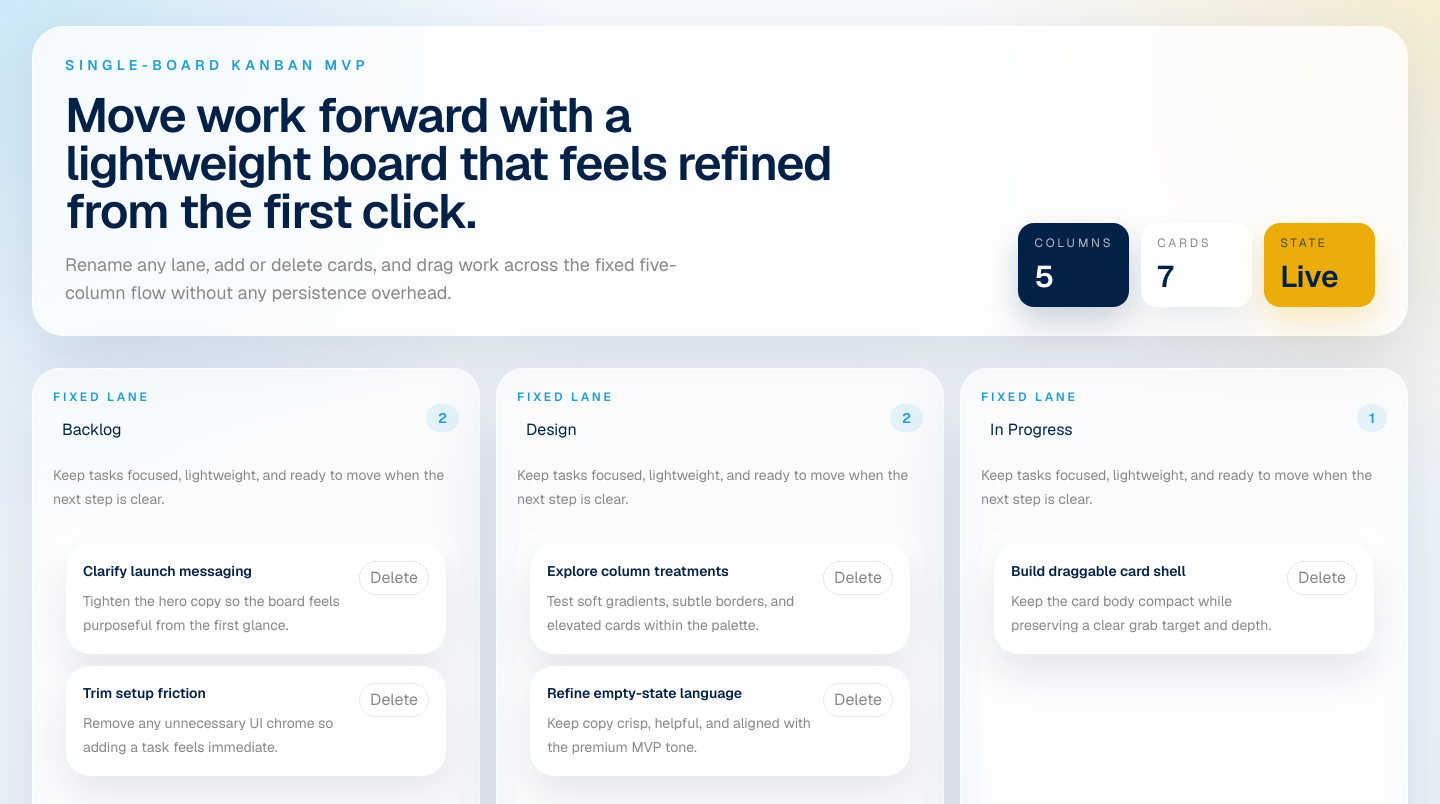
Test case: Board › renames a column, adds a card, and deletes it
Replace the text in the field named "Rename backlog column" with "Ideas" at (171, 430), box 53,413 -> 289,447
Press Tab
(page scrolled)
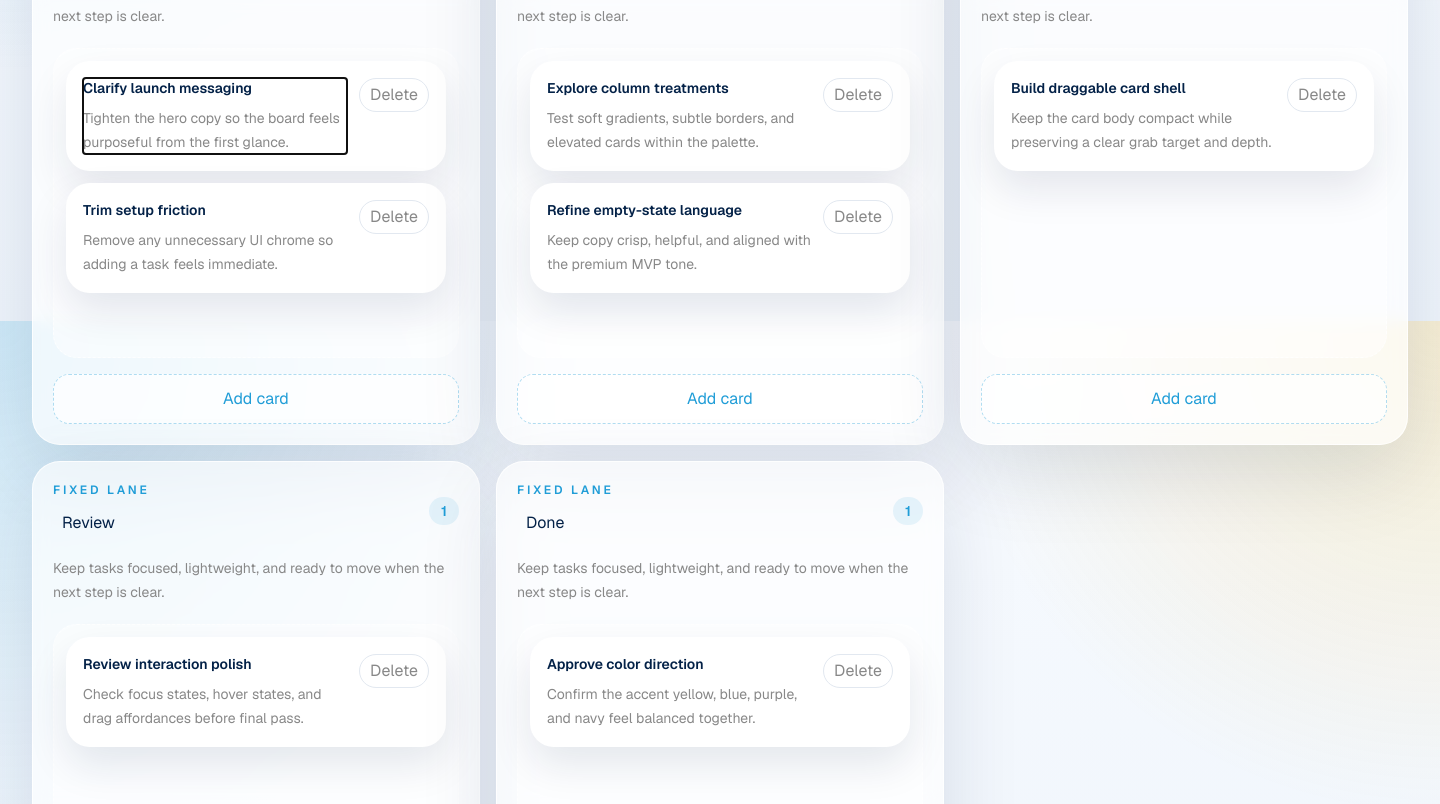
Click the button with aria-label "Add card to Ideas" at (256, 399), box 53,374 -> 459,424
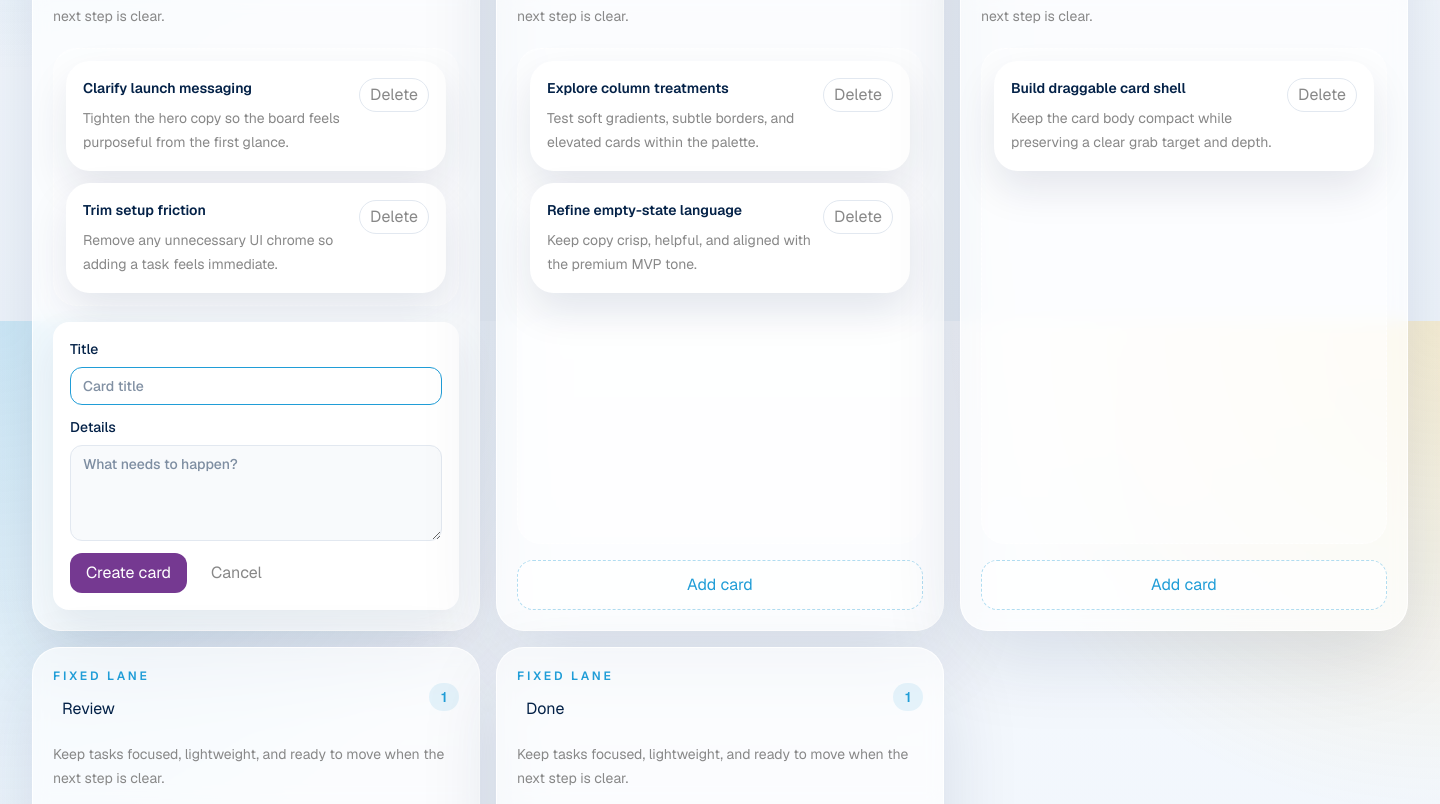
Type "Ship polished hover states" into the field labelled "Title" at (256, 386), box 70,367 -> 442,405
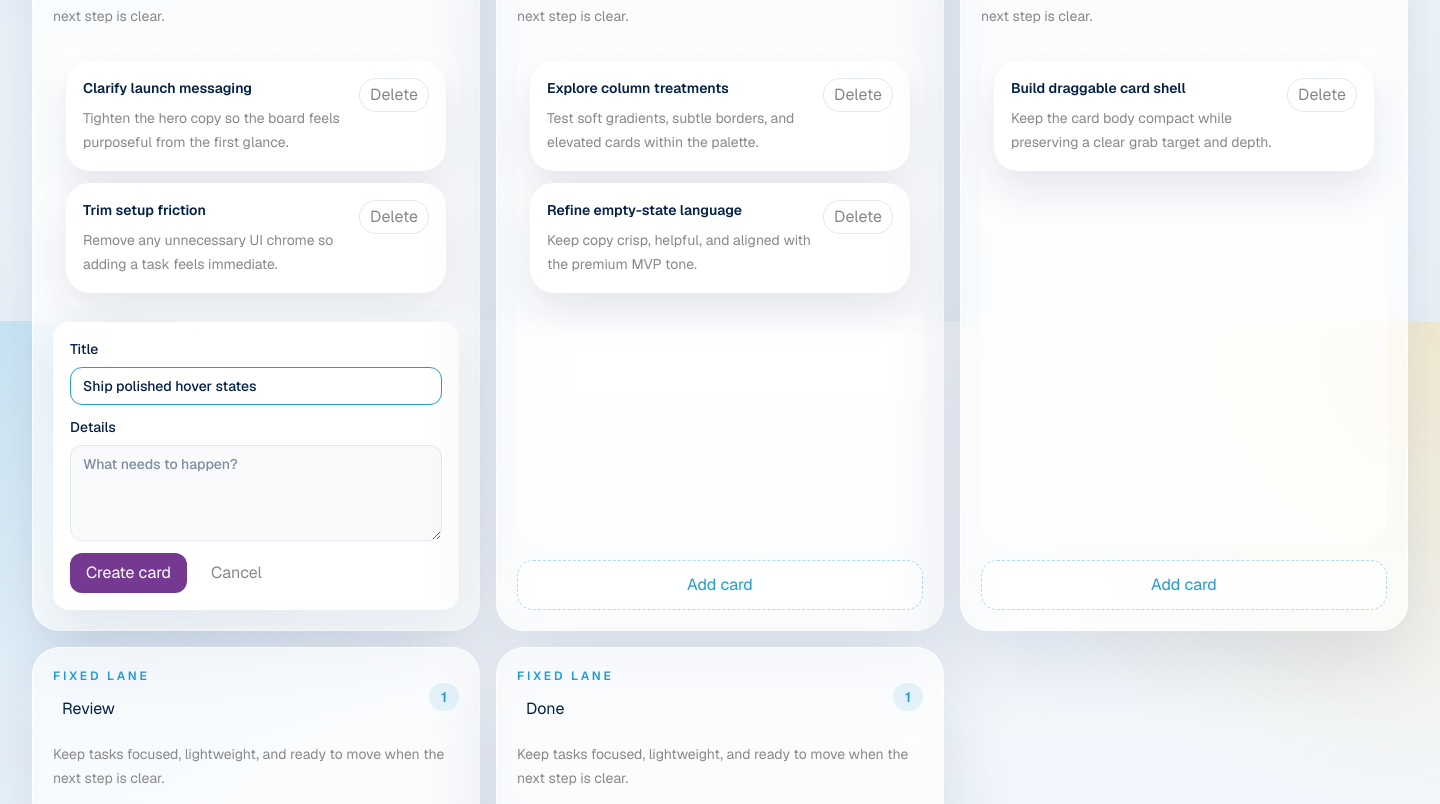
Type "Keep transitions smooth and restrained across the board." into the text box labelled "Details" at (256, 493), box 70,445 -> 442,541
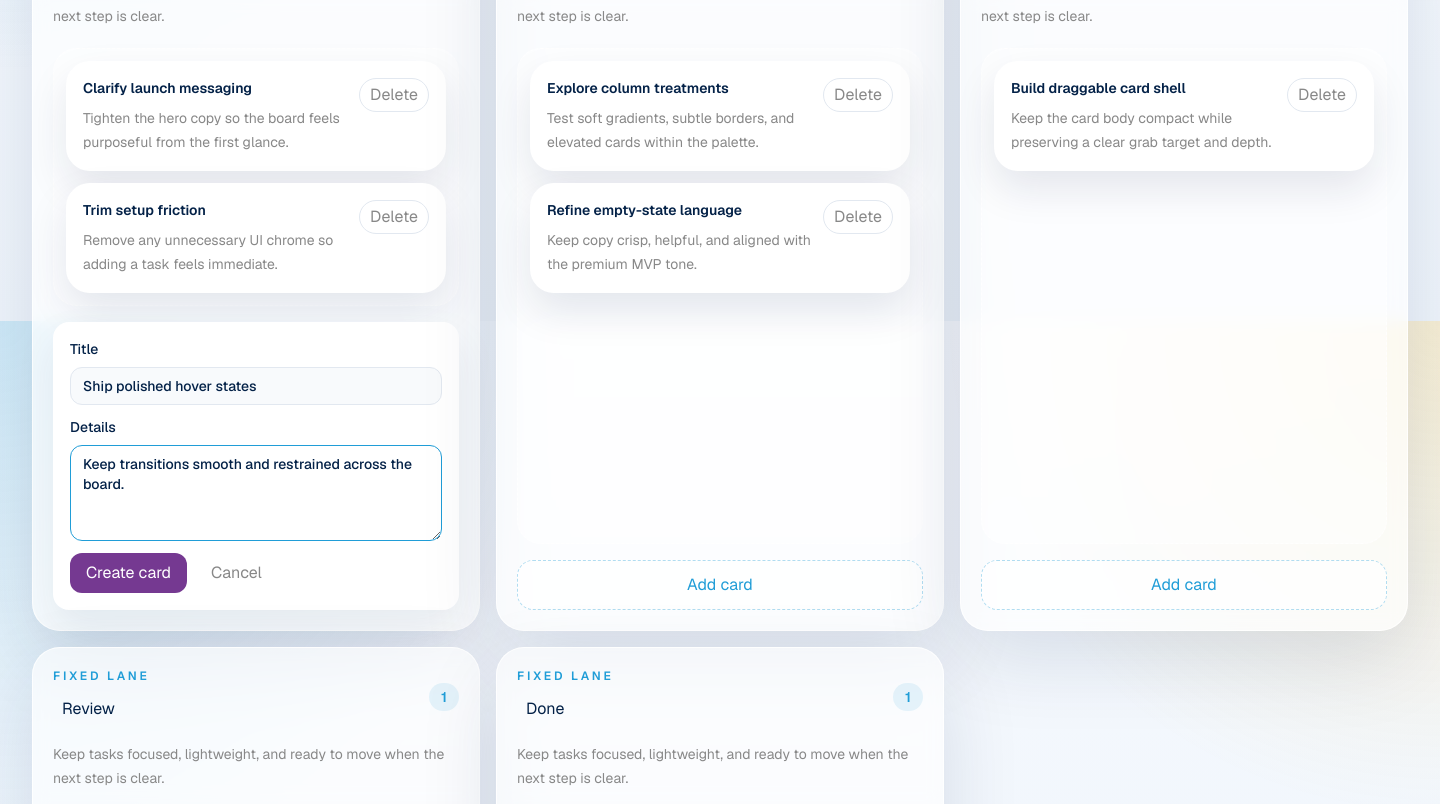
Click the button "Create card" at (129, 573), box 70,553 -> 187,593
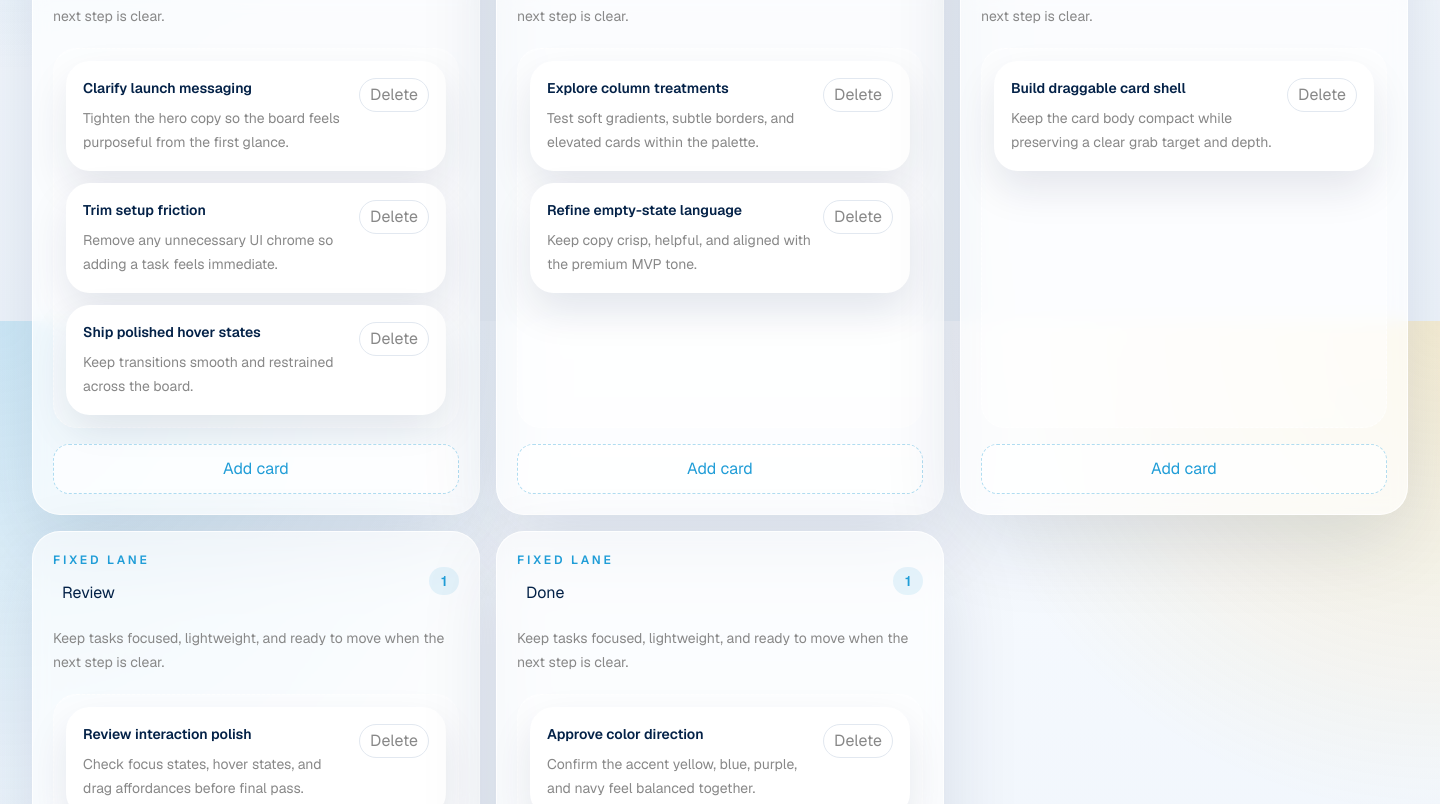
Check: the text "Ship polished hover states" is shown, box 83,323 -> 261,341
Click the button with aria-label "Delete Ship polished hover states" at (394, 339), box 359,322 -> 429,356
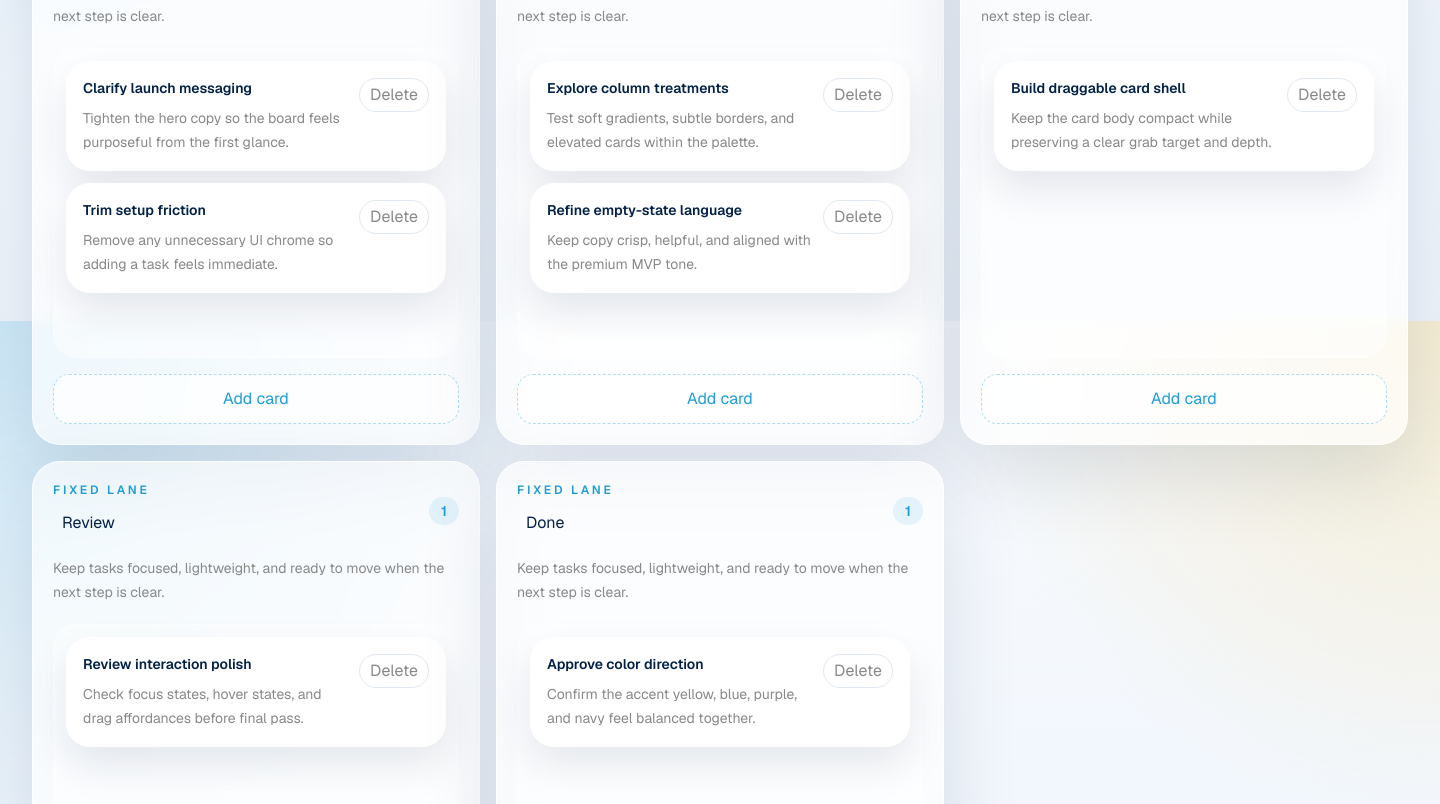
Check: the button "Ship polished hover states" is gone
